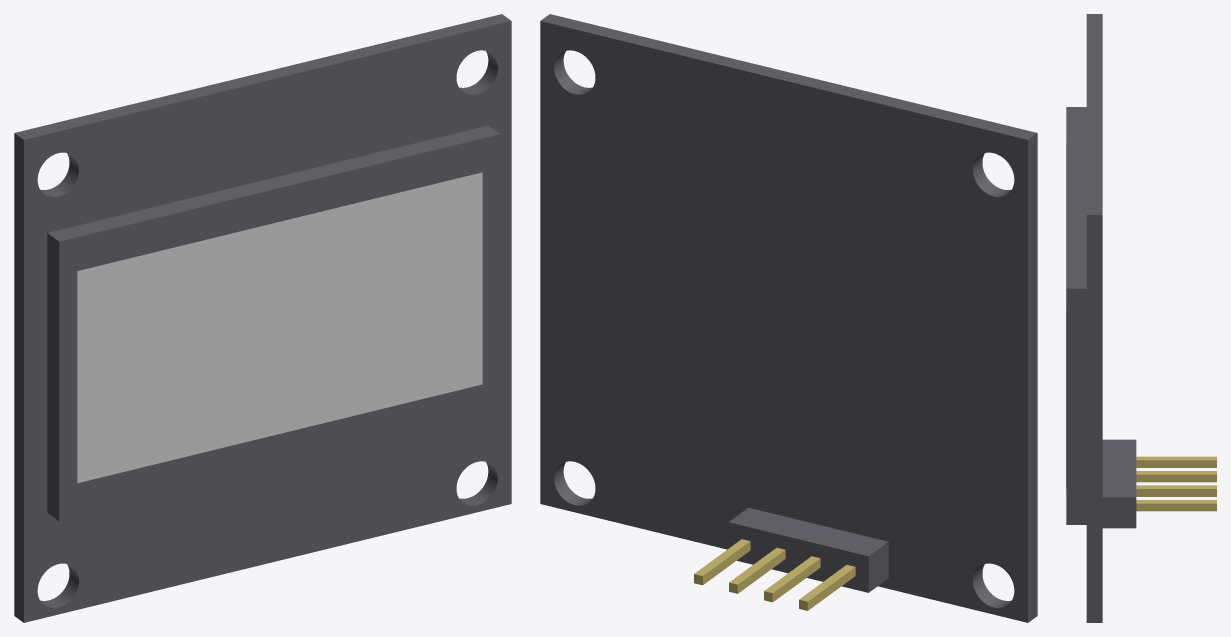
Rendered from sh1106_module_13.glb.
3 views of the same model, side by side, from view 1: azimuth 30°, elevation 25°; view 2: azimuth 150°, elevation 25°; view 3: azimuth 270°, elevation 25° (orthographic). The views are drawn at different scales.
Parts seen in each view (by area): view 1: extra, housing; view 2: extra, pins; view 3: extra, pins, housing.
Part boxes in pixels (left/top/right/bottom): extra: left=14, top=14, right=511, bottom=622; housing: left=77, top=172, right=482, bottom=483; extra: left=540, top=14, right=1037, bottom=622; pins: left=694, top=539, right=855, bottom=610; extra: left=1066, top=14, right=1136, bottom=622; pins: left=1136, top=456, right=1216, bottom=511; housing: left=1066, top=143, right=1066, bottom=488.
Bounding box in the file's own units: 35.4 × 33.5 × 11.22.
